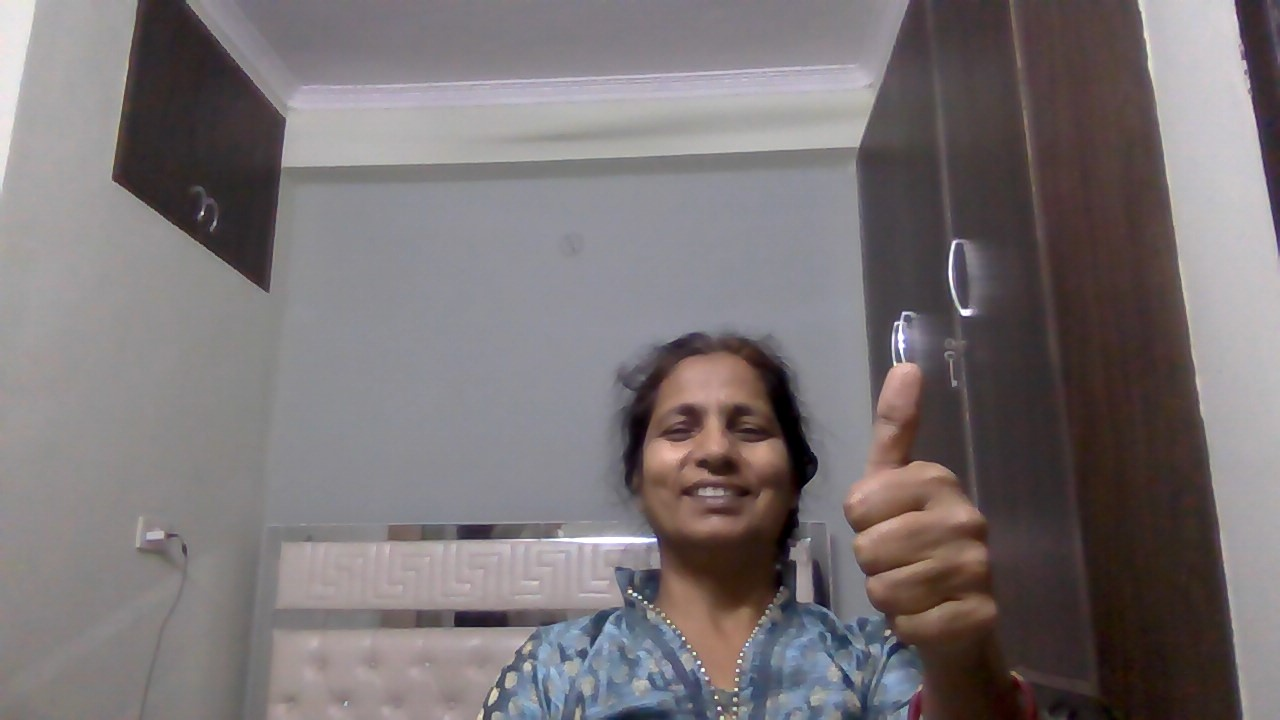Save: (837, 353, 1021, 661)
